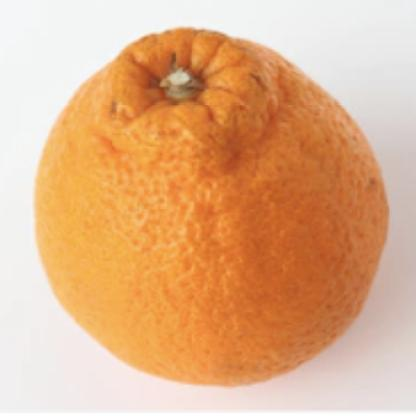fresh: (39, 25, 386, 392)
